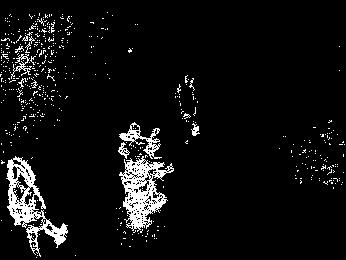person: (6, 156, 70, 259), (173, 72, 204, 143)
